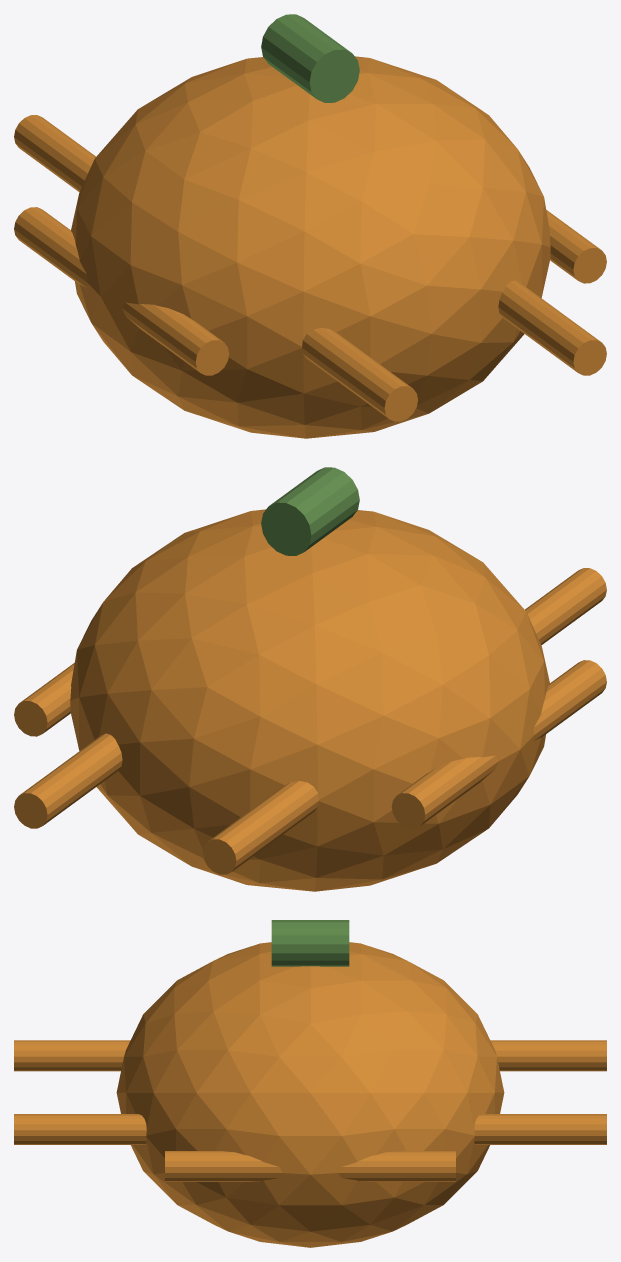
The model's file is pumpkin.glb.
The picture shows the model from 3 angles, top to bottom: view 1: azimuth 30°, elevation 25°; view 2: azimuth 150°, elevation 25°; view 3: azimuth 270°, elevation 25°; orthographic projection. The views are drawn at different scales.
Parts seen in each view (by area): view 1: world; view 2: world; view 3: world.
Part boxes in pixels (box(x1,y1,x2,y2)): world: box(14, 14, 606, 438); world: box(14, 467, 606, 891); world: box(14, 920, 606, 1247).
Size of the model in its own units: 2 by 1.72 by 3.06.
